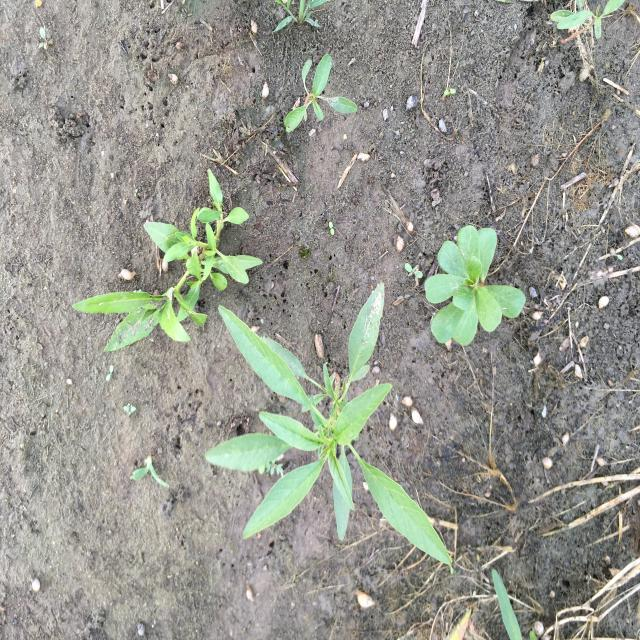Eclipta: (69, 167, 264, 355)
Purslane: (424, 224, 528, 347)
Waterhemp: (203, 279, 453, 569), (284, 51, 359, 135)
